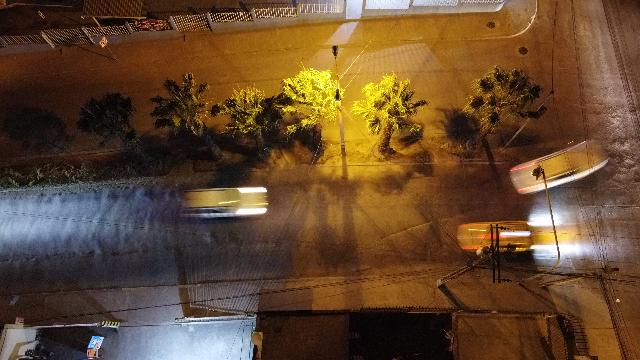Vehiculo: (509, 139, 609, 195), (456, 221, 534, 259), (178, 187, 268, 219)
